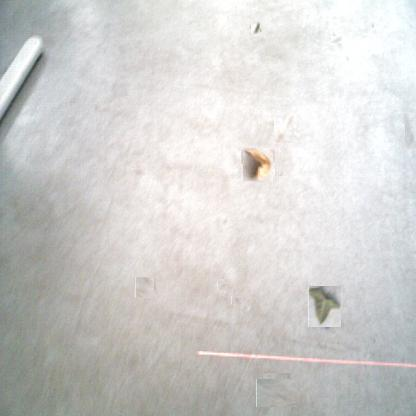dirty: (308, 285, 341, 327), (242, 148, 274, 180), (272, 118, 296, 142), (250, 22, 262, 33)
mark: (260, 376, 294, 411), (404, 112, 416, 150), (135, 277, 155, 298), (132, 166, 144, 176), (232, 296, 242, 305), (332, 35, 341, 44), (218, 280, 227, 289), (370, 22, 376, 28)
